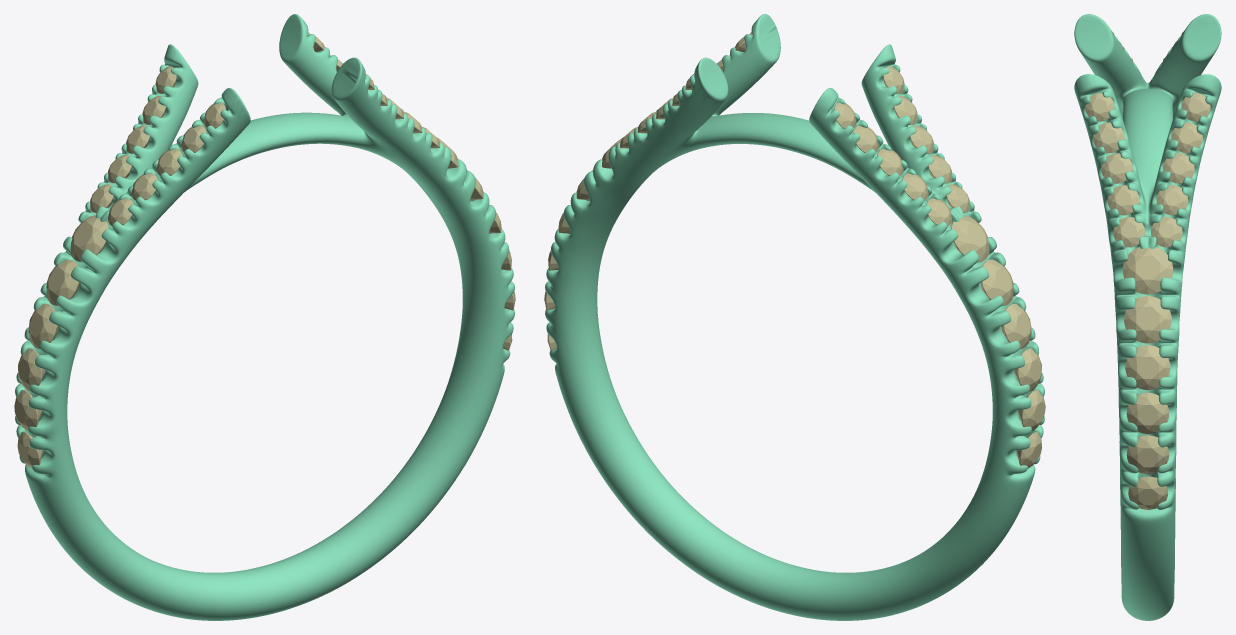
3 views of the same model, side by side, from view 1: azimuth 30°, elevation 25°; view 2: azimuth 150°, elevation 25°; view 3: azimuth 270°, elevation 25° (orthographic).
Visible parts, largest first — view 1: Metal02, Diamond_Gem.015, Diamond_Gem.014, Diamond_Gem.013, Diamond_Gem.012, Diamond_Gem.011; view 2: Metal02, Diamond_Gem.015, Diamond_Gem.014, Diamond_Gem.013, Diamond_Gem.012, Diamond_Gem.011; view 3: Metal02, Diamond_Gem.016, Diamond_Gem.017, Diamond_Gem.018, Diamond_Gem.019, Diamond_Gem.020, Diamond_Gem.021, Diamond_Gem.027, Diamond_Gem.025, Diamond_Gem.024, Diamond_Gem.028, Diamond_Gem.029 (+5 smaller).
Boxes of the visible parts, x1,y1,x2,y2 form: Metal02: (15,14,514,620); Diamond_Gem.015: (70,215,108,262); Diamond_Gem.014: (46,259,79,305); Diamond_Gem.013: (28,303,58,348); Diamond_Gem.012: (18,348,45,391); Diamond_Gem.011: (14,390,41,431); Metal02: (545,14,1044,620); Diamond_Gem.015: (951,215,989,262); Diamond_Gem.014: (980,259,1013,305); Diamond_Gem.013: (1001,304,1031,348); Diamond_Gem.012: (1014,348,1041,391); Diamond_Gem.011: (1018,390,1045,431); Metal02: (1074,14,1221,620); Diamond_Gem.016: (1123,247,1172,294); Diamond_Gem.017: (1124,296,1171,343); Diamond_Gem.018: (1125,345,1170,389); Diamond_Gem.019: (1126,392,1169,433); Diamond_Gem.020: (1126,435,1169,474); Diamond_Gem.021: (1128,476,1167,509); Diamond_Gem.027: (1151,217,1182,247); Diamond_Gem.025: (1113,217,1144,247); Diamond_Gem.024: (1107,185,1139,215); Diamond_Gem.028: (1156,185,1188,215); Diamond_Gem.029: (1163,153,1194,183).
Size of the model in its own units: 21 by 22.95 by 5.56.
